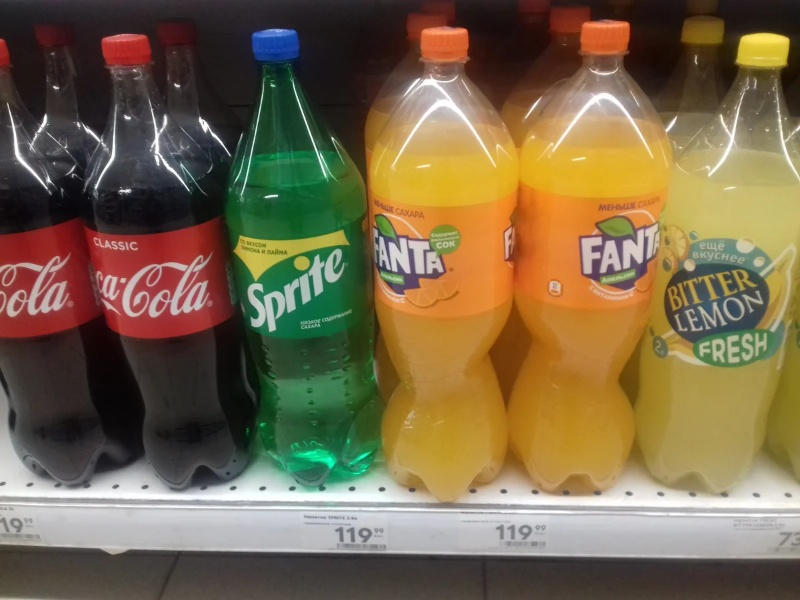lemonade: (78, 26, 273, 513), (502, 18, 690, 517), (210, 21, 395, 508), (624, 32, 794, 511), (363, 26, 525, 519)
